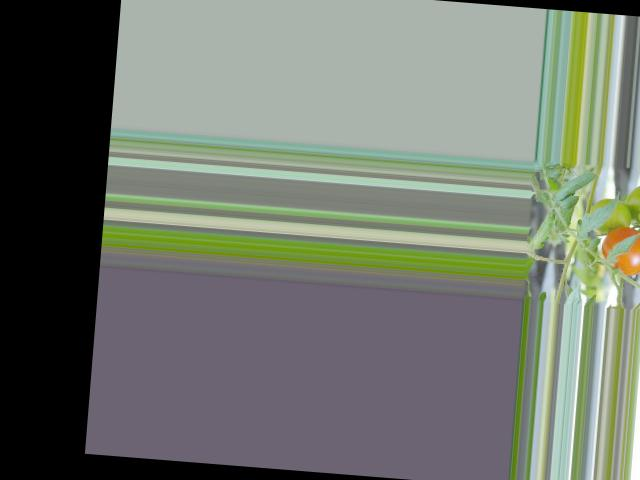tomato: (600, 225, 640, 277)
